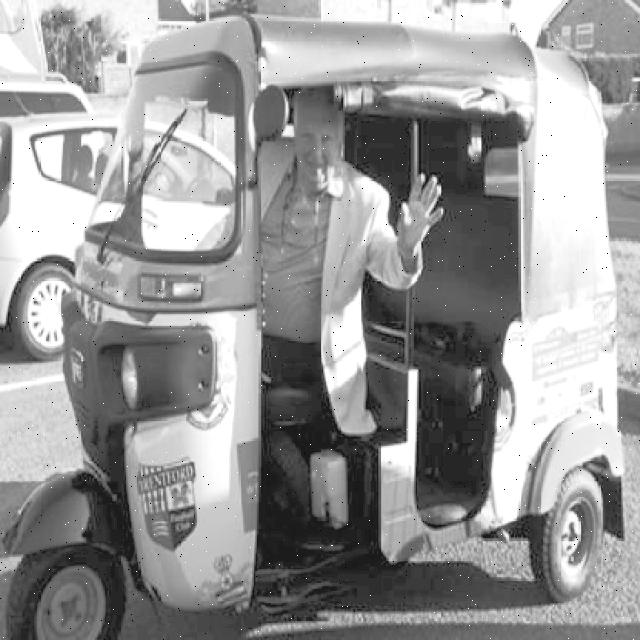Auto-Rickshaw: (3, 11, 632, 640)
